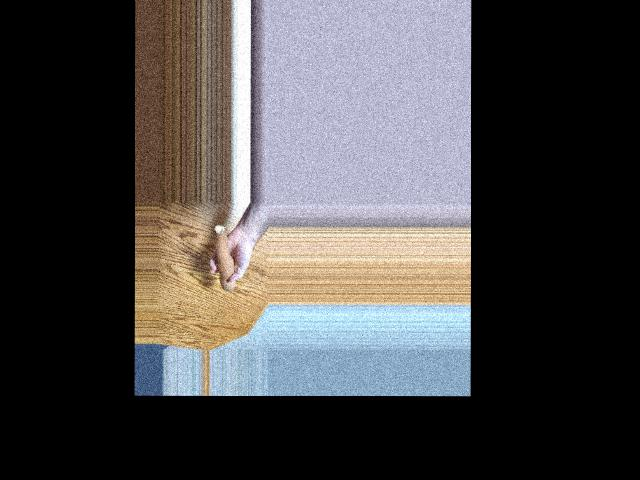sweet_potato: (216, 226, 235, 290)
